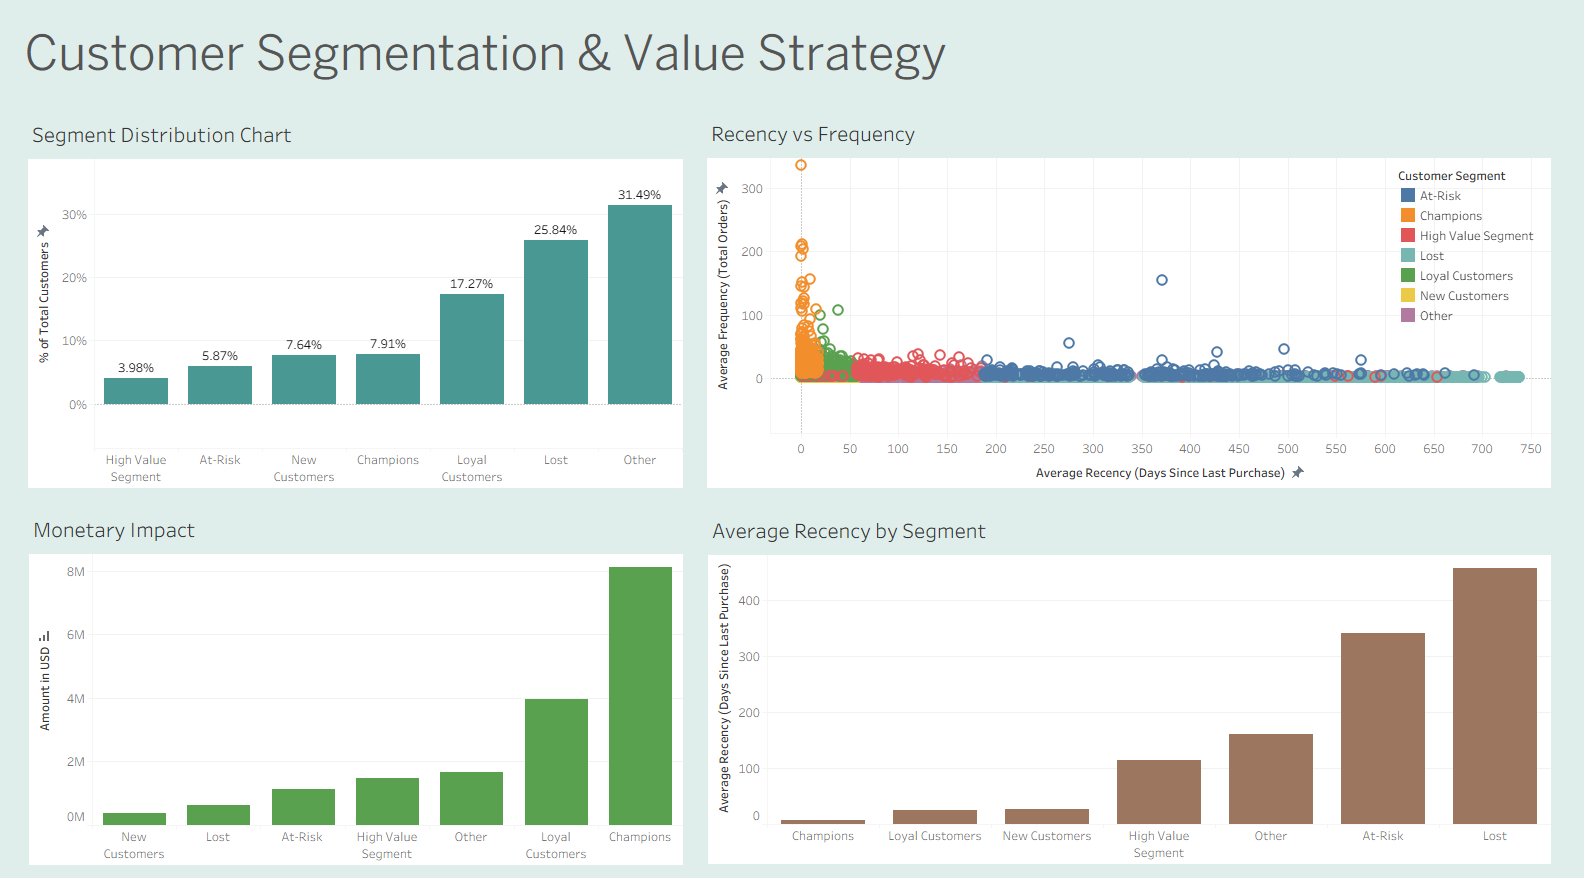

The dashboard page shown, as its layout file describes it:
{"tool":"tableau","page":{"name":"Dashboard 1","canvas":[1600,900],"ordinal":0},"visuals":[{"type":"text","box":[29.5,24.4,1286.2,74.6]},{"type":"worksheet","title":"Sheet 4","mark":"Automatic","rows":["Calculation_802203697094344709"],"cols":["Calculation_802203697093328900"],"box":[715,124,844,373]},{"type":"worksheet","title":"Sheet 1","mark":"Bar","rows":["Calculation_802203697087279106"],"cols":["customer_segment"],"box":[36,125,656,372]},{"type":"legend","title":"Sheet 4","param":"[federated.0r54ncy1bwqqsc171rzw01oapqw9].[none:customer_segment:nk]","box":[1406,176,140,158]},{"type":"worksheet","title":"Sheet 2","mark":"Automatic","rows":["Calculation_802203697091751939"],"cols":["customer_segment"],"box":[37,520,654,354]},{"type":"worksheet","title":"Sheet 3","mark":"Automatic","rows":["Calculation_802203697093328900"],"cols":["customer_segment"],"box":[716,521,843,352]}]}

Visuals, with their boxes in screenshot pixels (x1, y1, x2, y2), scaled from the page's 1600x900 canvas onto the 1584x878 screenshot:
text: [left=29, top=24, right=1303, bottom=97]
"Sheet 4" worksheet: [left=708, top=121, right=1543, bottom=485]
"Sheet 1" worksheet (Bar marks): [left=36, top=122, right=685, bottom=485]
"Sheet 4" legend: [left=1392, top=172, right=1531, bottom=326]
"Sheet 2" worksheet: [left=37, top=507, right=684, bottom=853]
"Sheet 3" worksheet: [left=709, top=508, right=1543, bottom=852]
